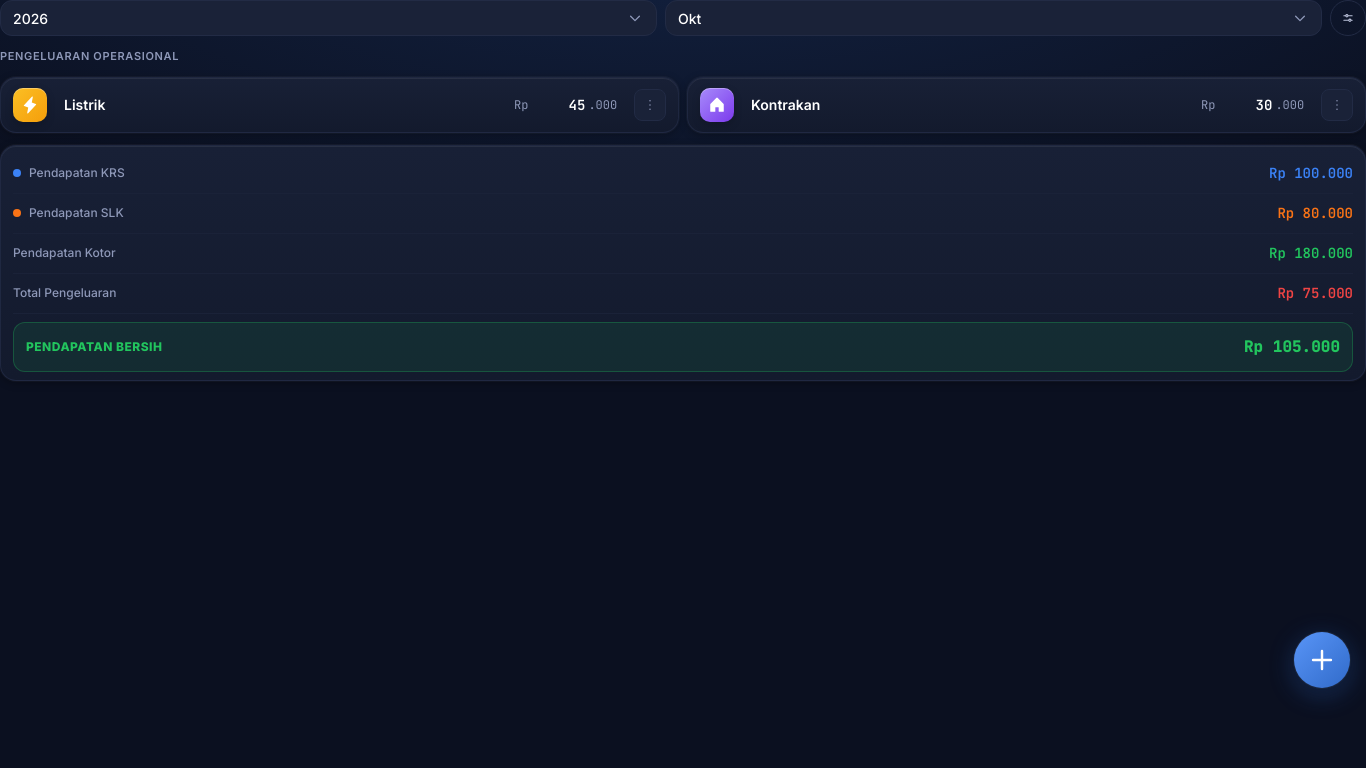
Test case: T13-02 FAB di layar › Operasional: FAB "Tambah Item" membuka sheet; ada FabSpace
Click the button named "Tambah Item": x=1322, y=660 left=1294, top=632, right=1350, bottom=688
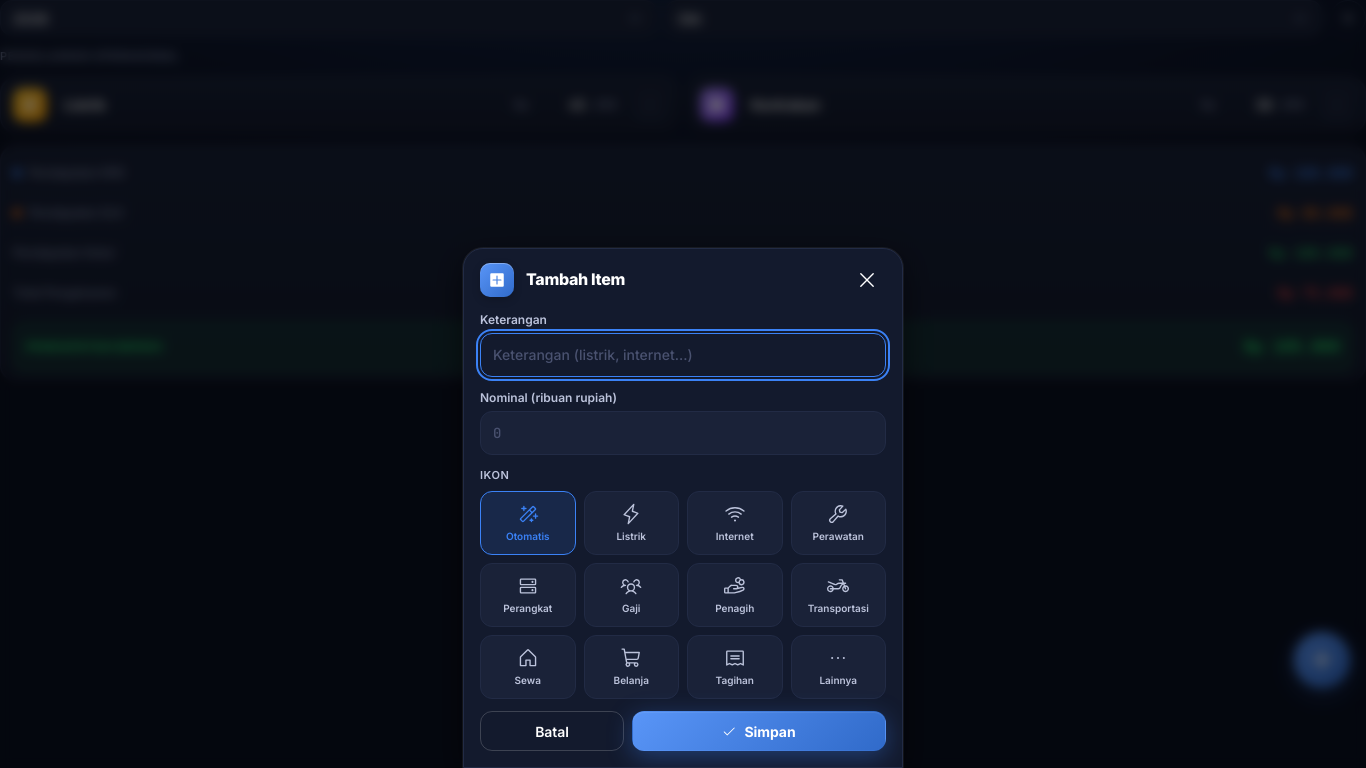
Check: the dialog is shown, box left=463, top=248, right=903, bottom=767
